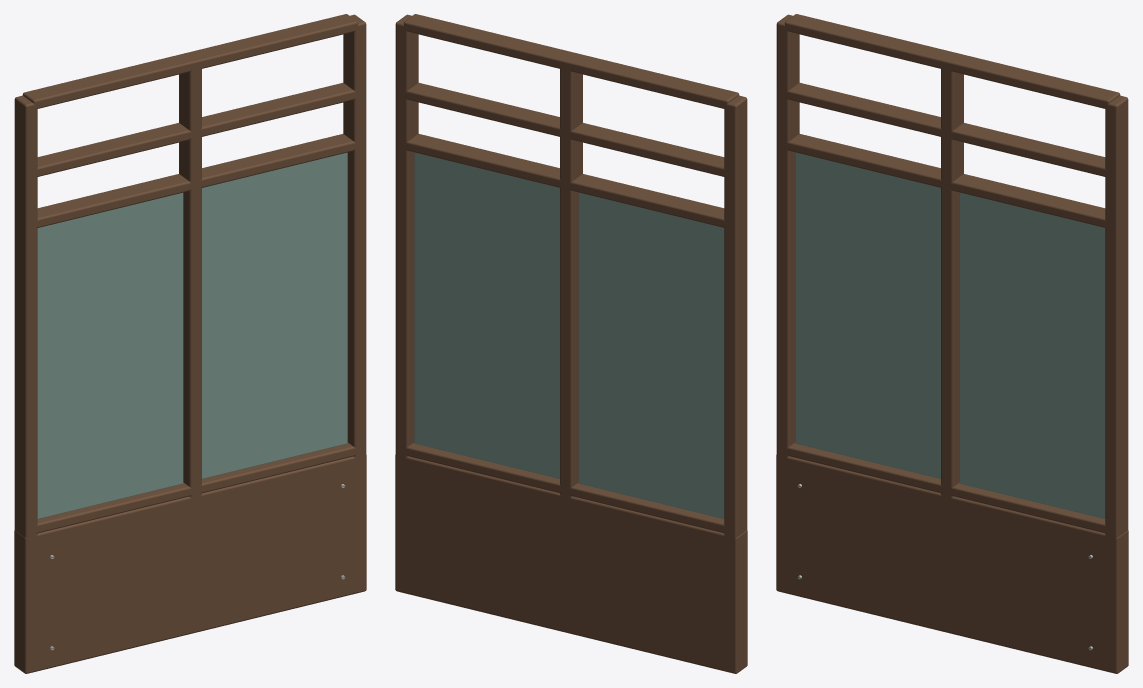
File: abandoned-telephone-exchange-glazed-operator-partition-cff3e702__31973.glb
3 renders of one model, left to right at view 1: azimuth 30°, elevation 25°; view 2: azimuth 150°, elevation 25°; view 3: azimuth 330°, elevation 25°, orthographic.
Visible parts, largest first — view 1: glazed-operator-partition; view 2: glazed-operator-partition; view 3: glazed-operator-partition.
Boxes of the visible parts, left/top/right/bottom form: glazed-operator-partition: left=14, top=14, right=366, bottom=673; glazed-operator-partition: left=395, top=14, right=747, bottom=673; glazed-operator-partition: left=776, top=14, right=1128, bottom=673.
Size of the model in its own units: 2 by 3.19 by 0.14.
